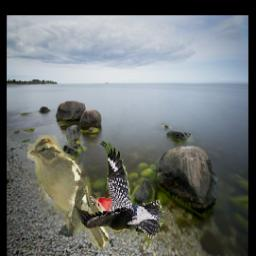Sparrow: (27, 135, 109, 249)
Woodpecker: (74, 141, 164, 240)
